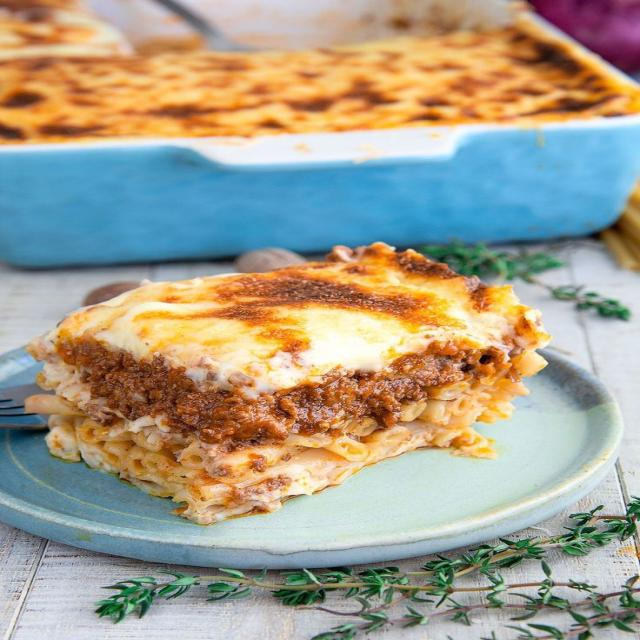Bechamel: (32, 249, 542, 532), (0, 2, 640, 143)
